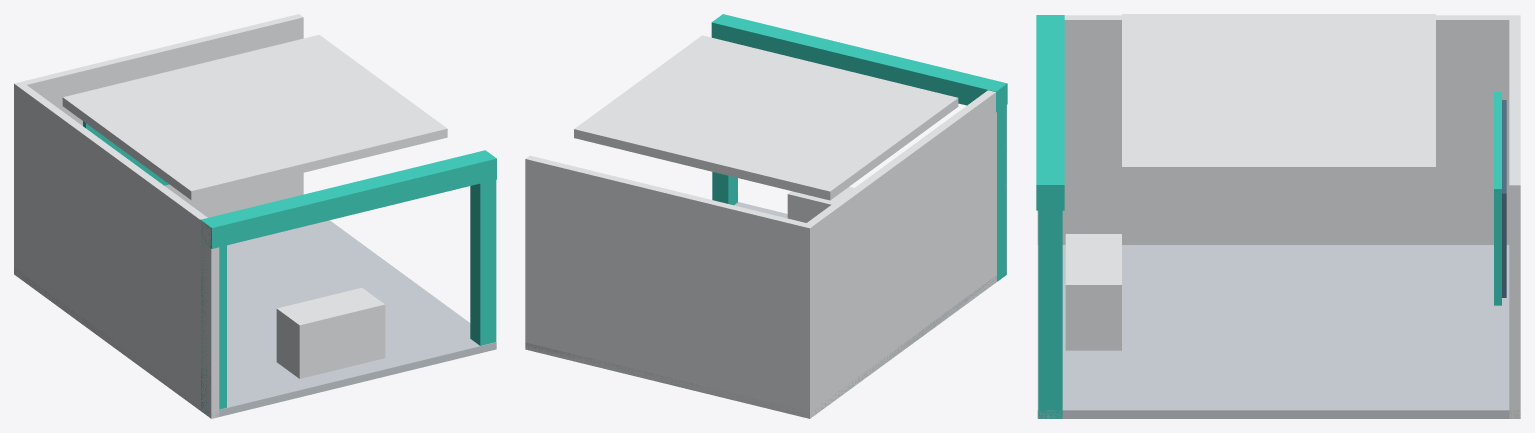
3 renders of one model, left to right at view 1: azimuth 30°, elevation 25°; view 2: azimuth 150°, elevation 25°; view 3: azimuth 270°, elevation 25°, orthographic. The views are drawn at different scales.
Visible parts, largest first — view 1: Exhibition Booth Concept; view 2: Exhibition Booth Concept; view 3: Exhibition Booth Concept.
Part boxes in pixels (x1,y1,x2,y2): Exhibition Booth Concept: (14,14,496,418); Exhibition Booth Concept: (525,14,1007,418); Exhibition Booth Concept: (1036,14,1520,418).
Size of the model in its own units: 5 by 3.34 by 6.02.
